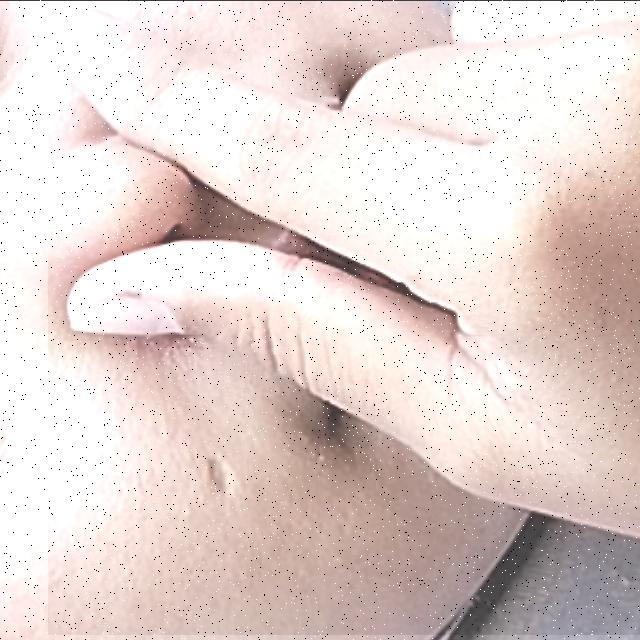bau: (48, 0, 640, 634)
